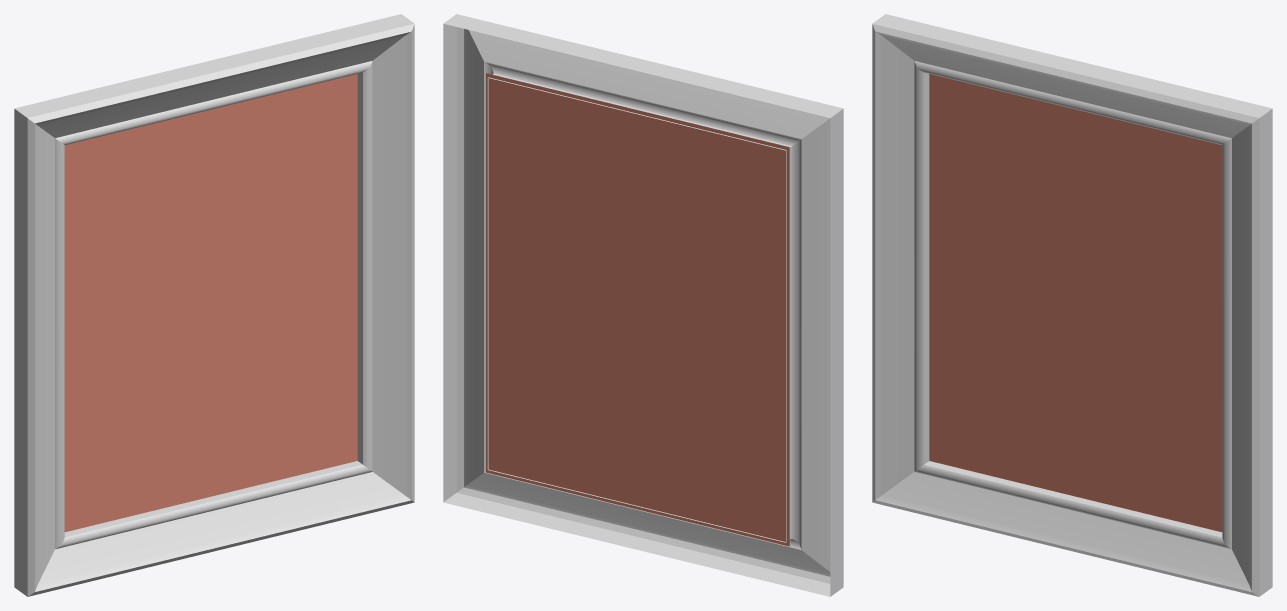
File: SM_Props_Decor_10.fbx
The picture shows the model from 3 angles, left to right: view 1: azimuth 30°, elevation 25°; view 2: azimuth 150°, elevation 25°; view 3: azimuth 330°, elevation 25°; orthographic projection.
Visible parts, largest first — view 1: SM_Props_Decor_10; view 2: SM_Props_Decor_10; view 3: SM_Props_Decor_10.
Part boxes in pixels (left/top/right/bottom): SM_Props_Decor_10: left=14, top=14, right=414, bottom=596; SM_Props_Decor_10: left=443, top=14, right=843, bottom=596; SM_Props_Decor_10: left=872, top=14, right=1272, bottom=596.
Size of the model in its own units: 169 by 200 by 11.65.
